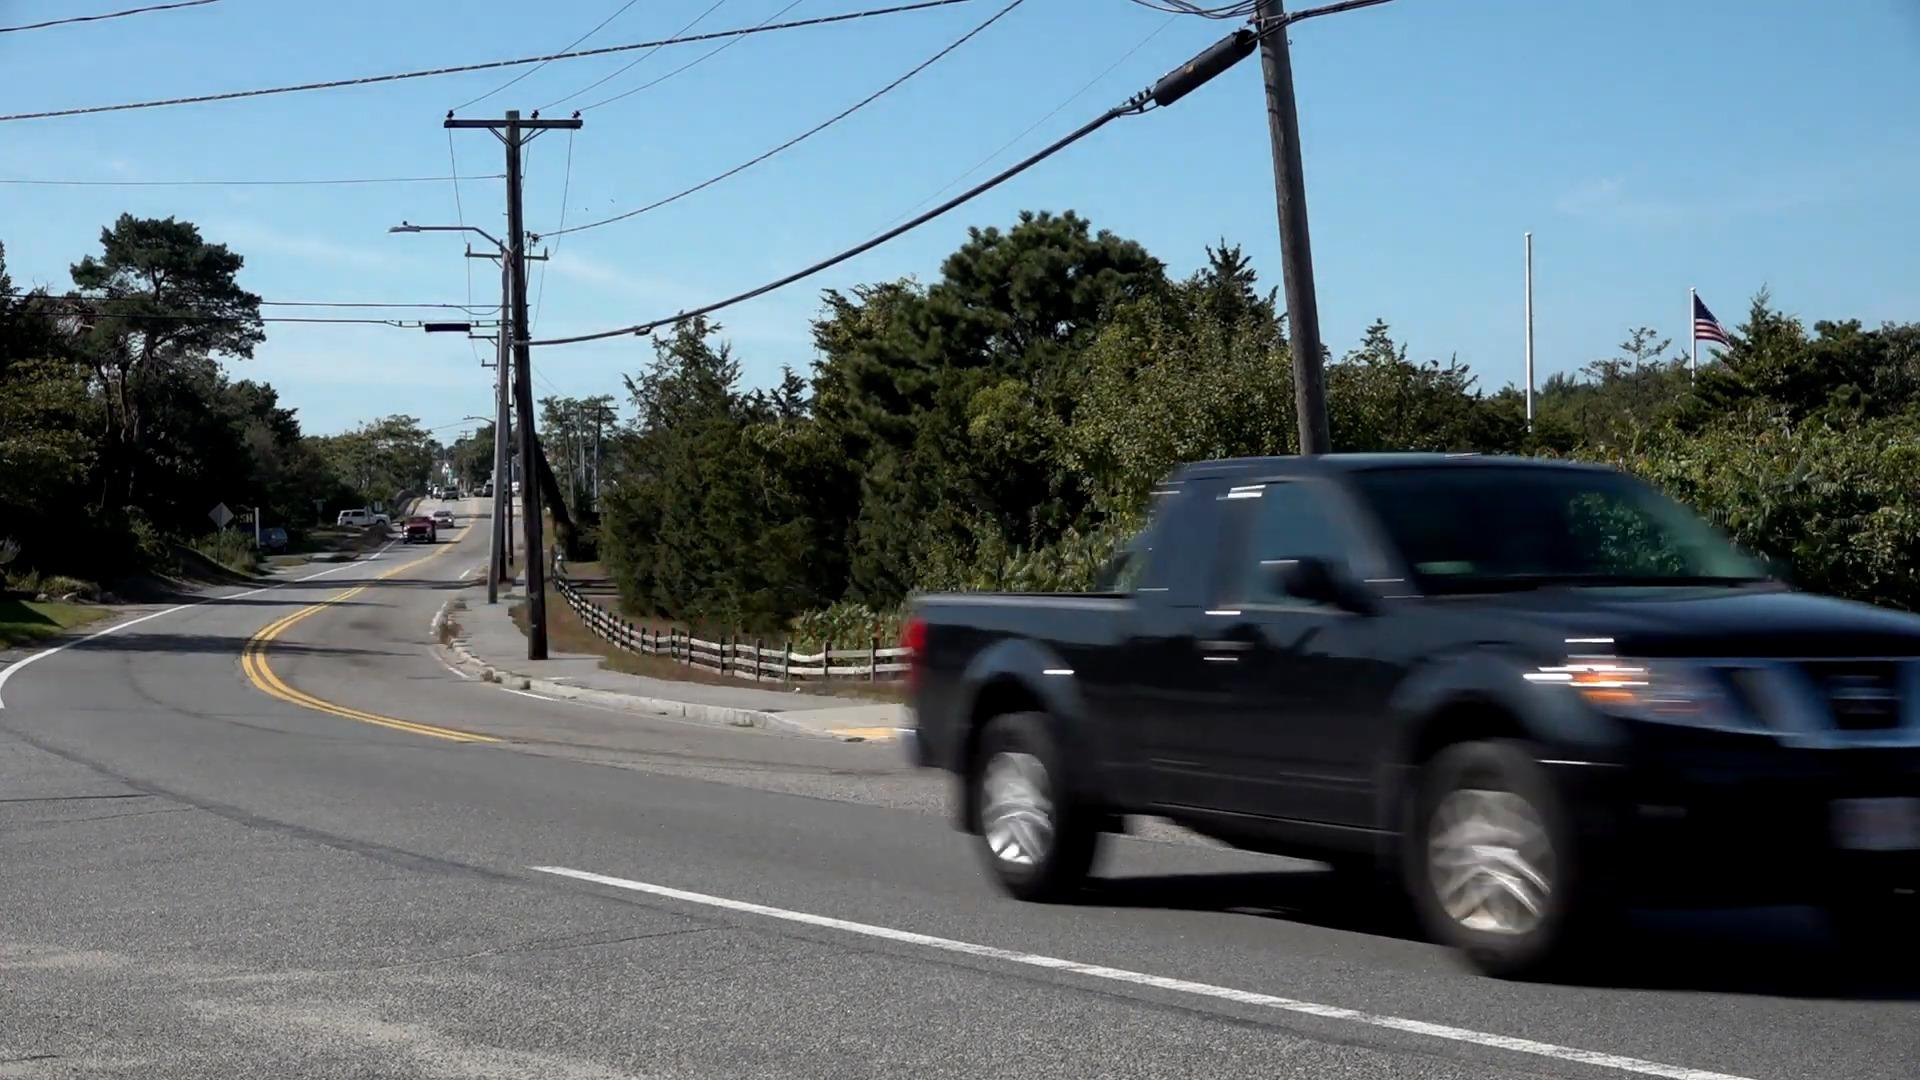pickup: (903, 458, 1920, 988)
